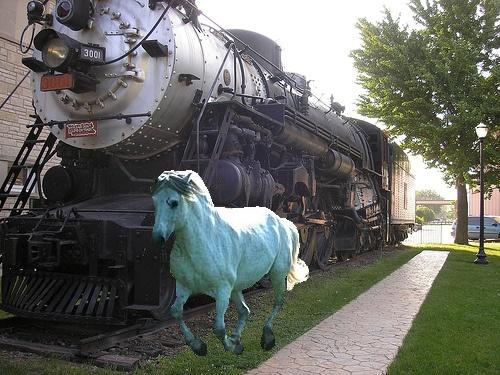tampered: (151, 171, 309, 356)
